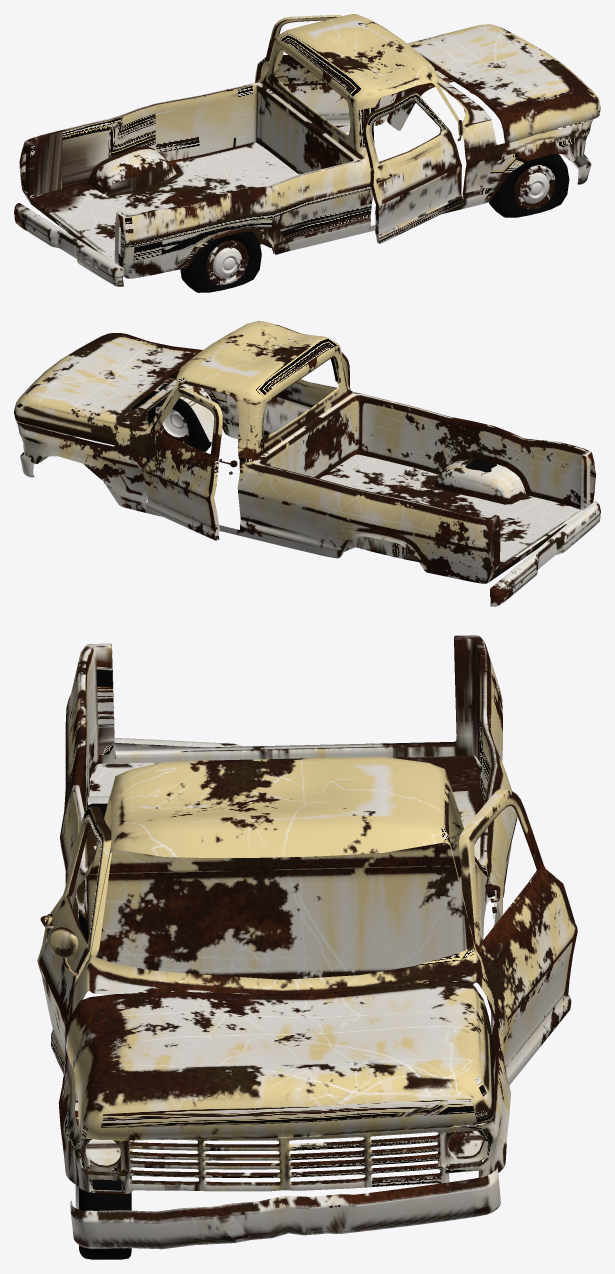
File: uploads_files_4025169_source(1).fbx
3 views of the same model, one above another, from view 1: azimuth 30°, elevation 25°; view 2: azimuth 150°, elevation 25°; view 3: azimuth 270°, elevation 25° (orthographic). The views are drawn at different scales.
Parts seen in each view (by area): view 1: car; view 2: car; view 3: car.
Part boxes in pixels (x1=…): car: x1=14, y1=14, x2=600, y2=292; car: x1=14, y1=321, x2=600, y2=606; car: x1=37, y1=635, x2=577, y2=1259.
Bounding box in the file's own units: 869 × 274 × 412.
1 material, 1 textured.
